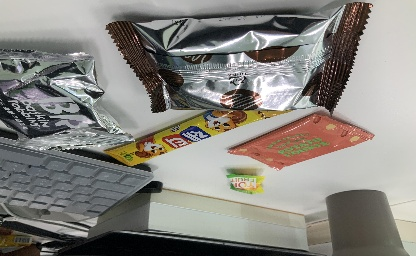br: (1, 44, 137, 155)
jeli: (224, 167, 269, 199)
jt: (102, 88, 304, 169)
mon: (105, 3, 375, 121)
pota: (228, 112, 378, 173)
